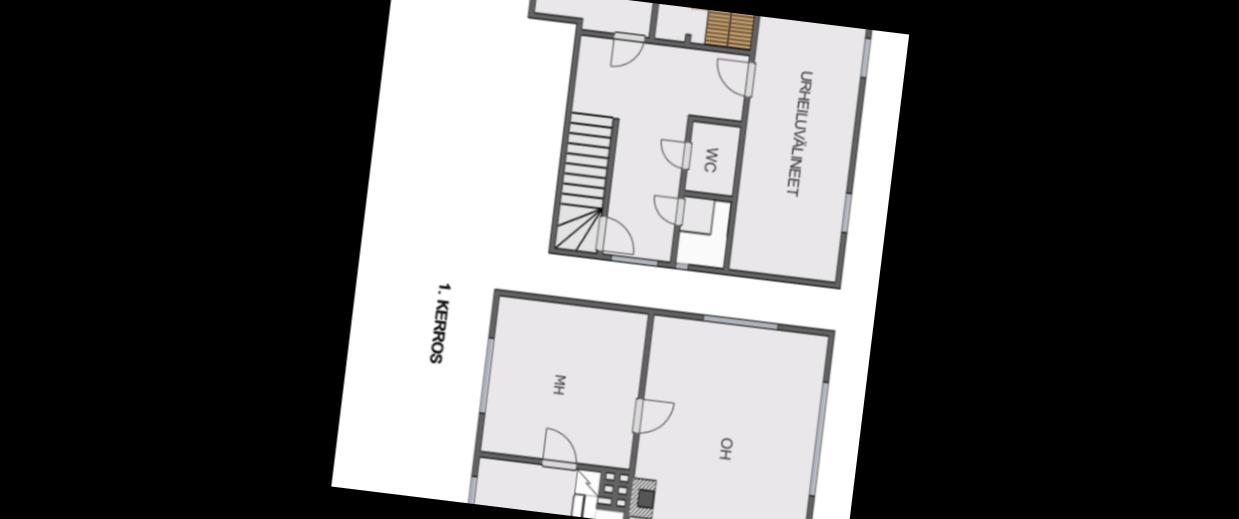door: (536, 422, 584, 472), (710, 52, 760, 97), (628, 393, 676, 438), (593, 213, 640, 258), (653, 130, 697, 172), (606, 27, 648, 71), (649, 191, 687, 230)
window: (804, 372, 832, 501), (473, 329, 498, 417), (695, 310, 783, 334), (602, 251, 662, 268), (837, 185, 854, 239), (856, 30, 870, 81), (464, 468, 480, 504), (670, 256, 691, 272)
